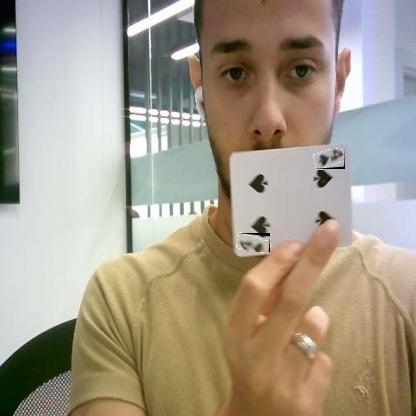4S: (237, 233, 270, 252), (314, 149, 345, 169)
